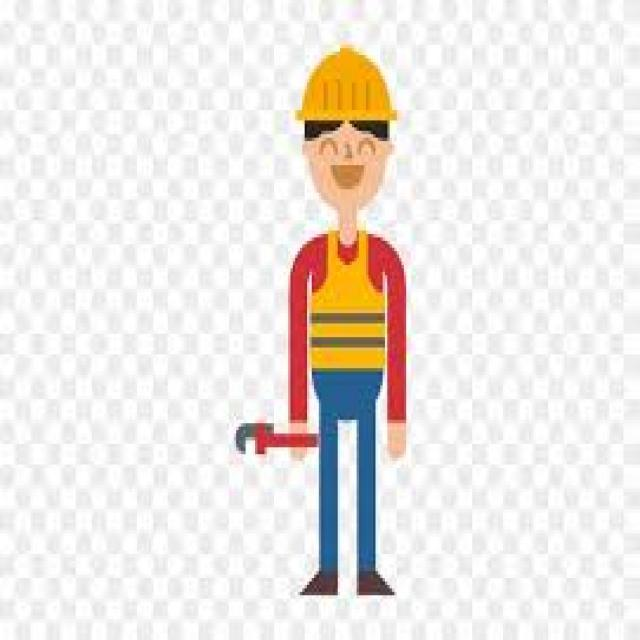safety_helmet: (288, 34, 401, 140)
